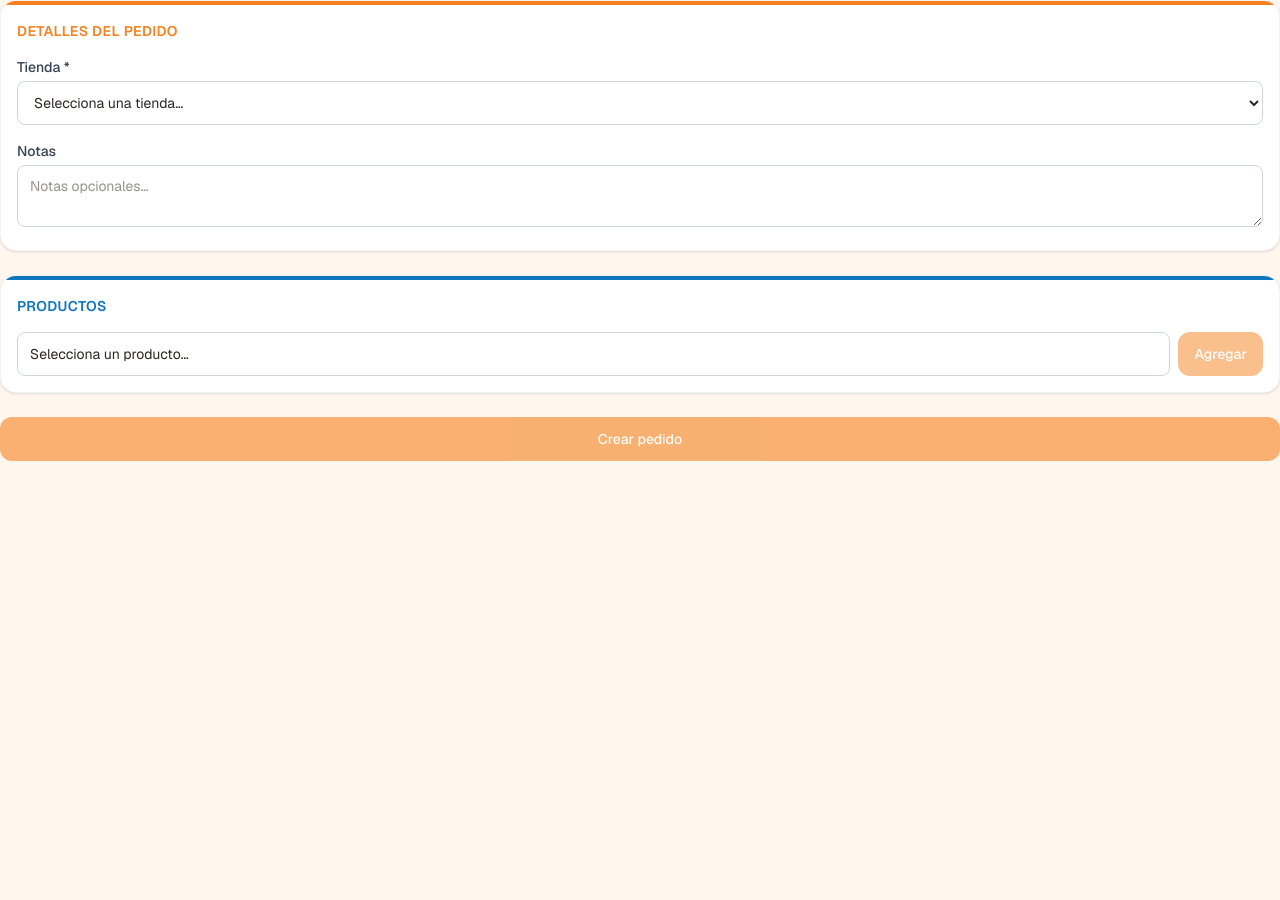
it: OrderBuilder — remove item › removes the row when Remove is clicked
The image size is (1280, 900).
Click the button with aria-label "agregar producto" at (109, 354), box 17,332 -> 1170,376
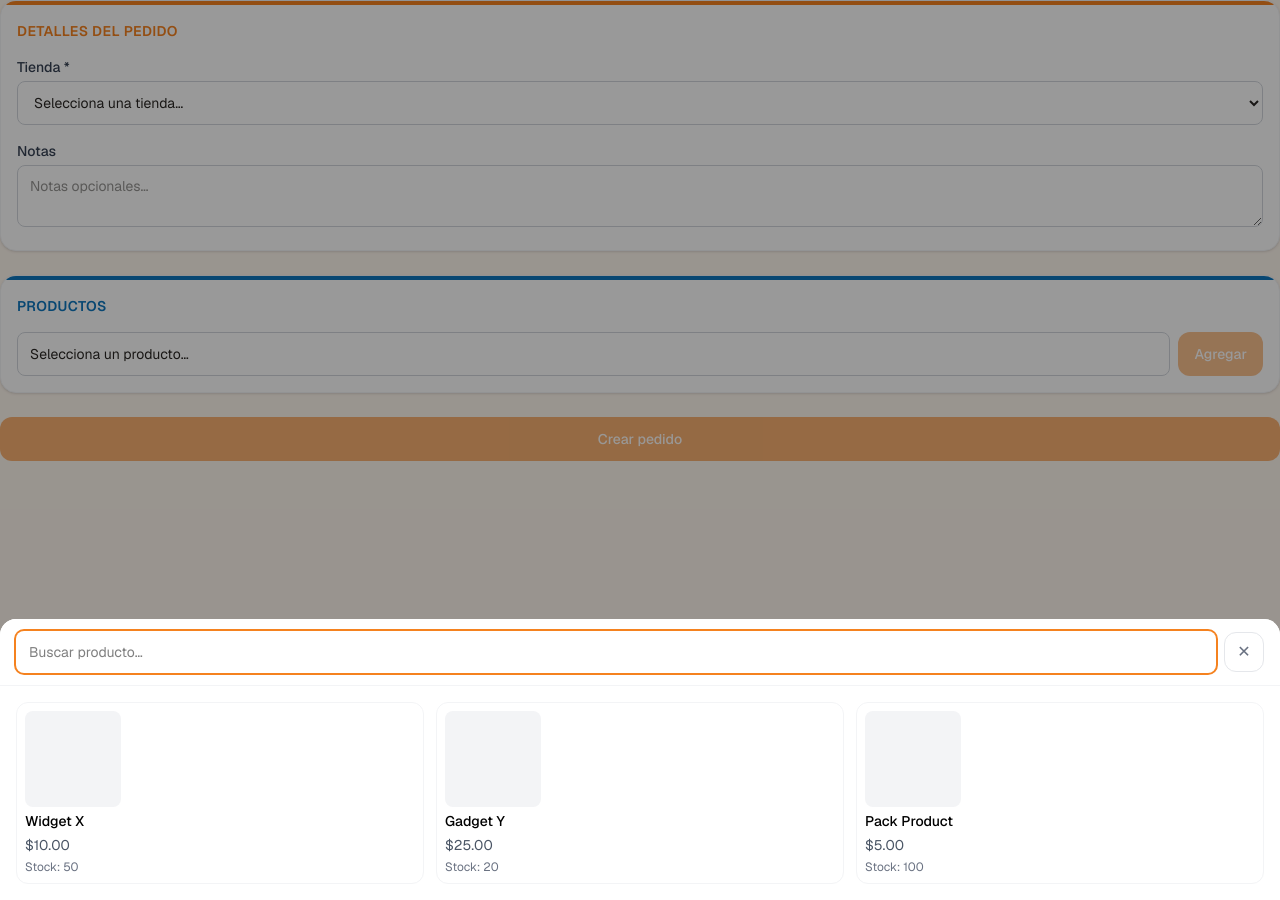
Click the button "Widget X $10.00 Stock: 50" at (73, 759), box 16,702 -> 424,884
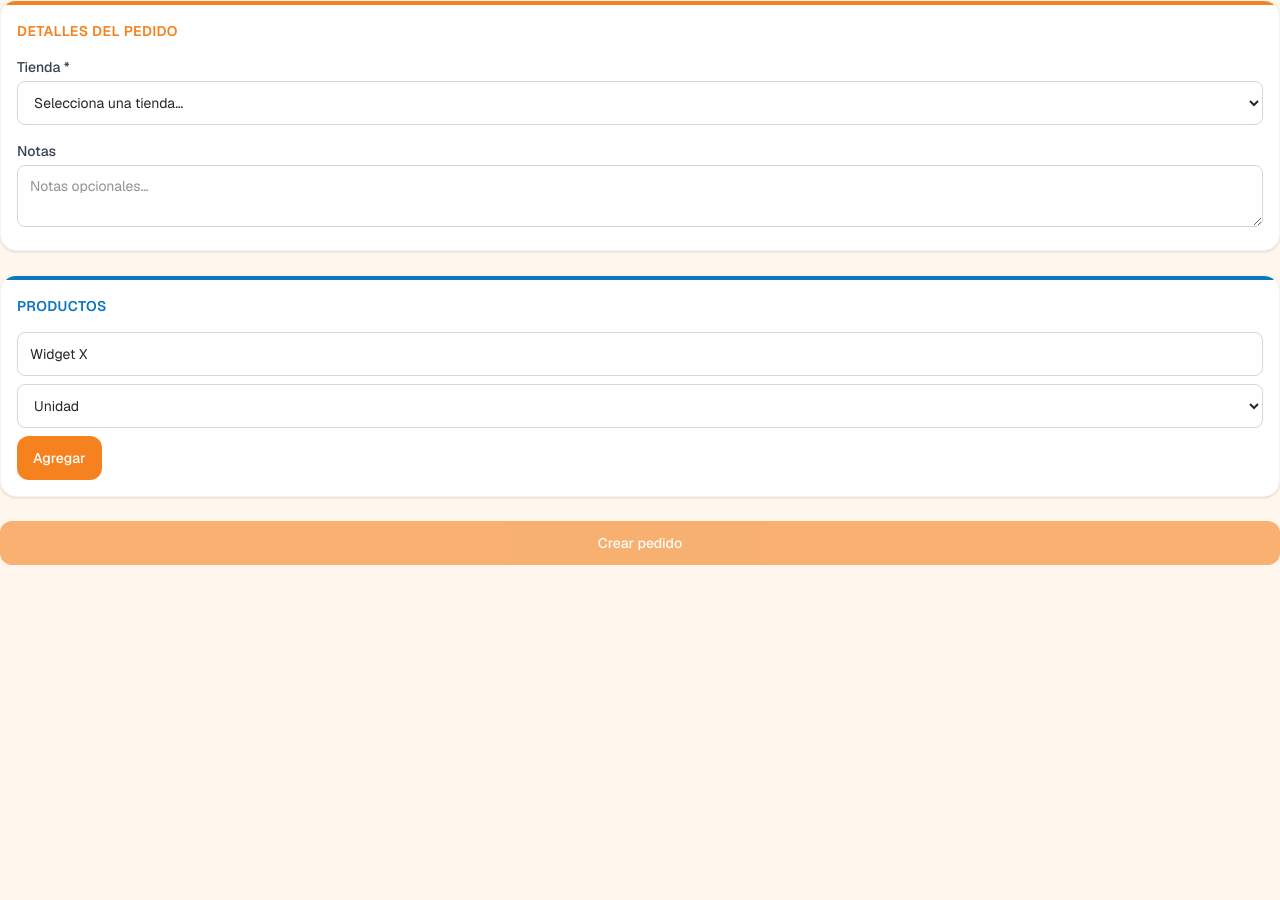
Click the button "Agregar" at (59, 458), box 17,436 -> 102,480
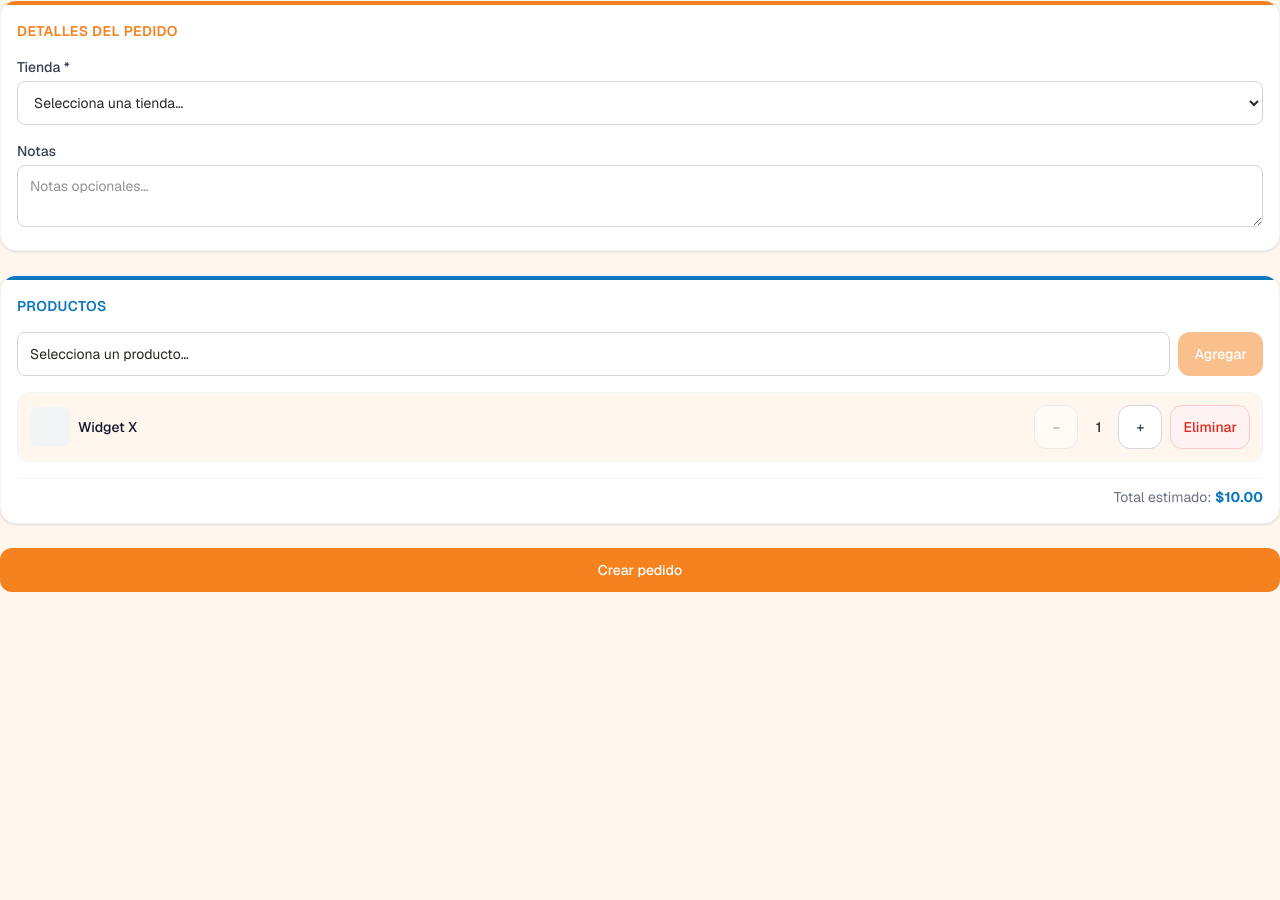
Expected: the text "Widget X" is shown, 78,418 -> 137,436
Click the button "Eliminar" at (1210, 427), box 1170,405 -> 1250,449
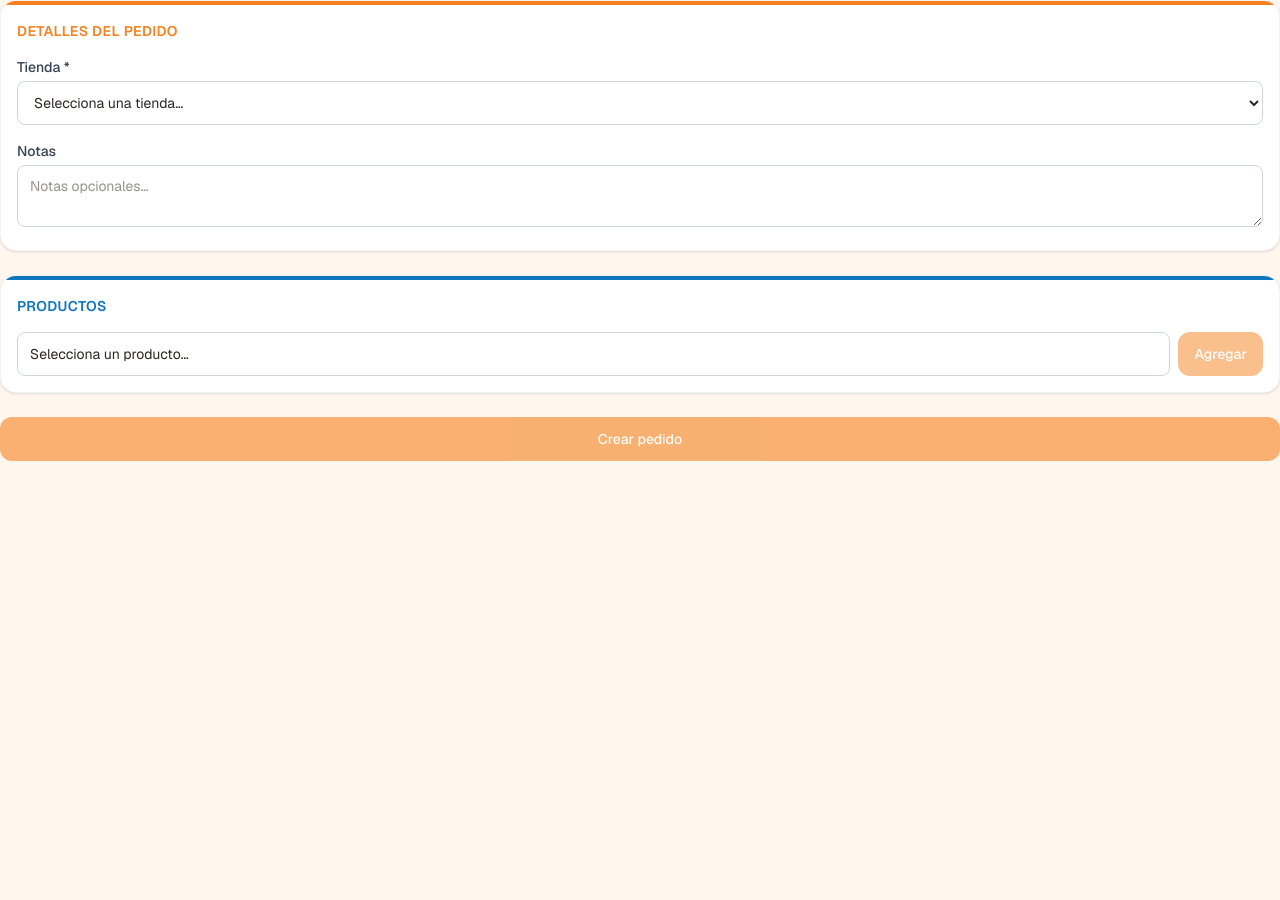
Expected: the text "Widget X" is gone
